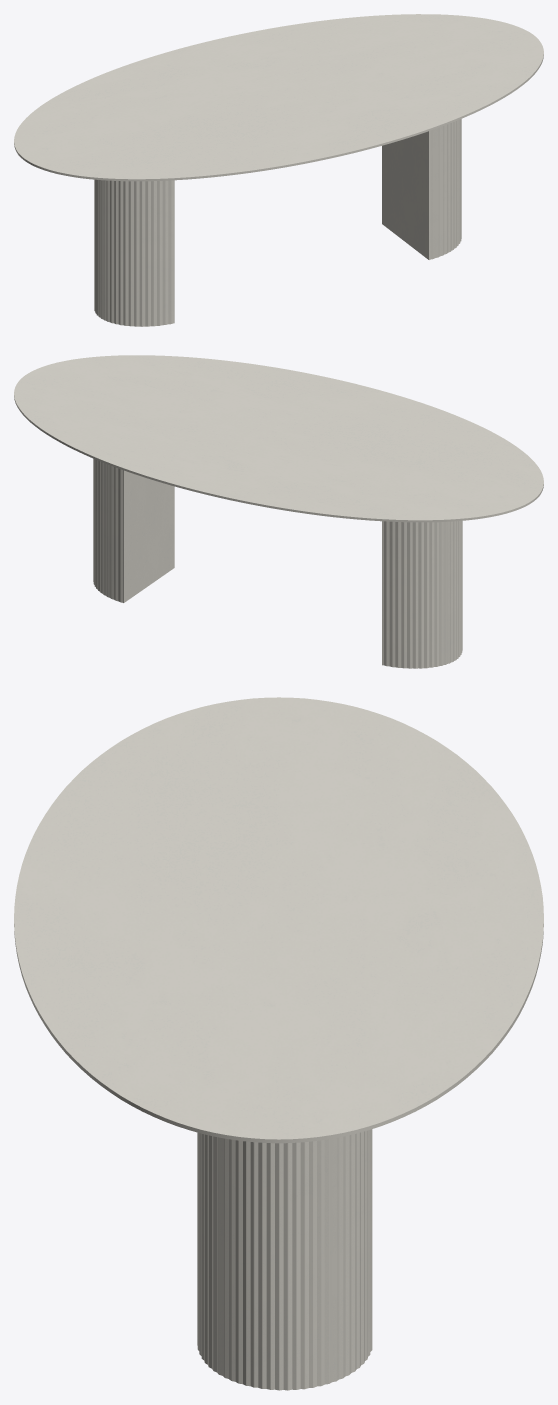
Rendered from pale_ellips_facet_flute.glb.
3 views of the same model, one above another, from view 1: azimuth 30°, elevation 25°; view 2: azimuth 150°, elevation 25°; view 3: azimuth 270°, elevation 25° (orthographic). The views are drawn at different scales.
Parts seen in each view (by area): view 1: facet_ellips, flute; view 2: facet_ellips, flute; view 3: facet_ellips, flute.
Part boxes in pixels (left/top/right/bottom): facet_ellips: left=14, top=14, right=543, bottom=181; flute: left=94, top=119, right=461, bottom=326; facet_ellips: left=14, top=355, right=543, bottom=522; flute: left=93, top=458, right=462, bottom=668; facet_ellips: left=14, top=697, right=543, bottom=1143; flute: left=197, top=1129, right=372, bottom=1390.
Bounding box in the file's own units: 7.5 × 2.51 × 3.8.
1 material, 1 textured.
